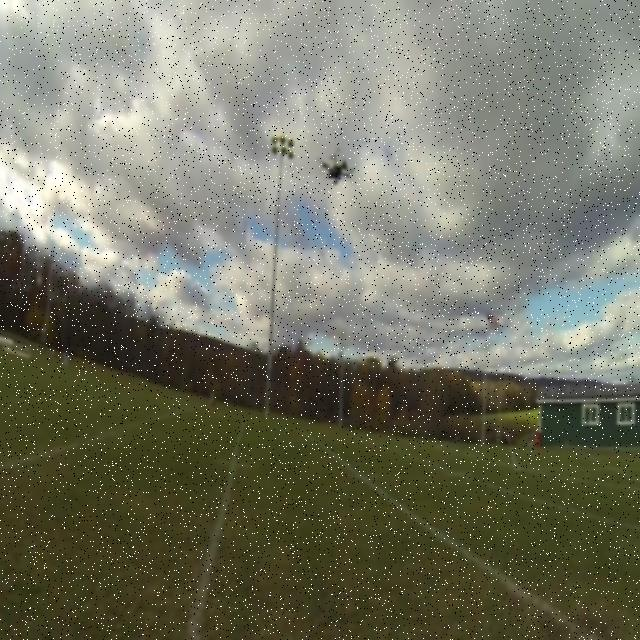UAV: (317, 147, 355, 185)
